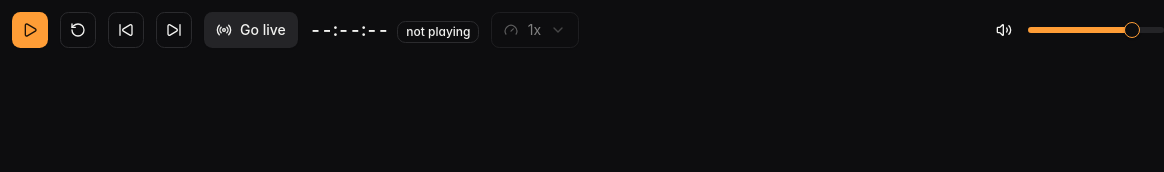
it: the previous and next sound buttons › say when there is no earlier sound
This screenshot has width=1164, height=172.
Click the button named "Previous sound" at (126, 30), box [108,12,144,48]
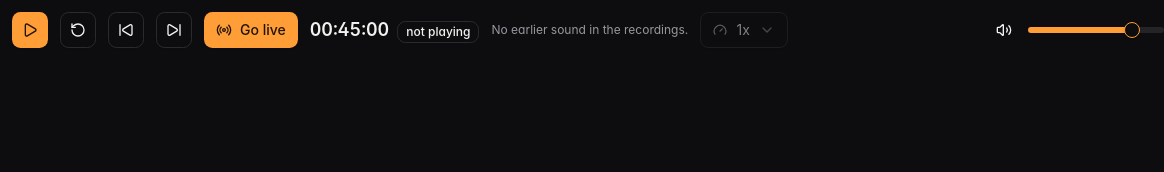
Check: the message reads "No earlier sound in the recordings.", box [492,22,688,37]
